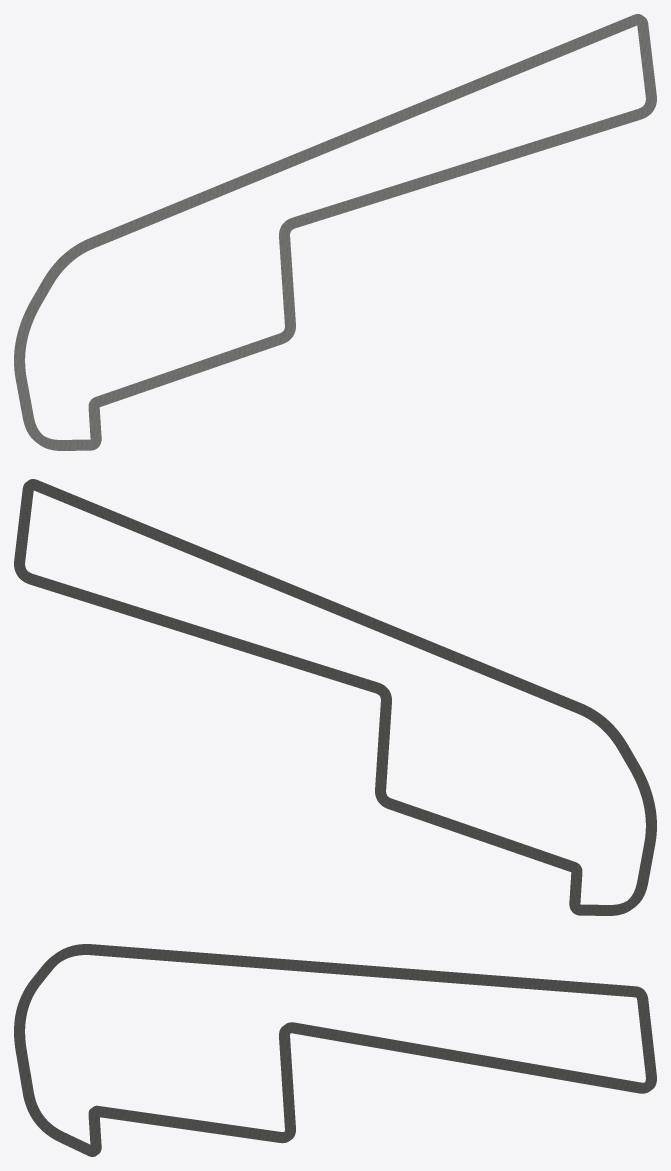
The model's file is curb_side_ring_07_visual.obj.
3 views of the same model, one above another, from view 1: azimuth 30°, elevation 25°; view 2: azimuth 150°, elevation 25°; view 3: azimuth 330°, elevation 25° (orthographic).
Visible parts, largest first — view 1: curb_side_ring_07_visual; view 2: curb_side_ring_07_visual; view 3: curb_side_ring_07_visual.
Boxes of the visible parts, x1=… form: curb_side_ring_07_visual: x1=14, y1=14, x2=656, y2=450; curb_side_ring_07_visual: x1=14, y1=479, x2=656, y2=915; curb_side_ring_07_visual: x1=14, y1=944, x2=656, y2=1156.
Bounding box in the file's own units: 27.36 × 12.29 × 0.2.
1 material, 1 textured.
